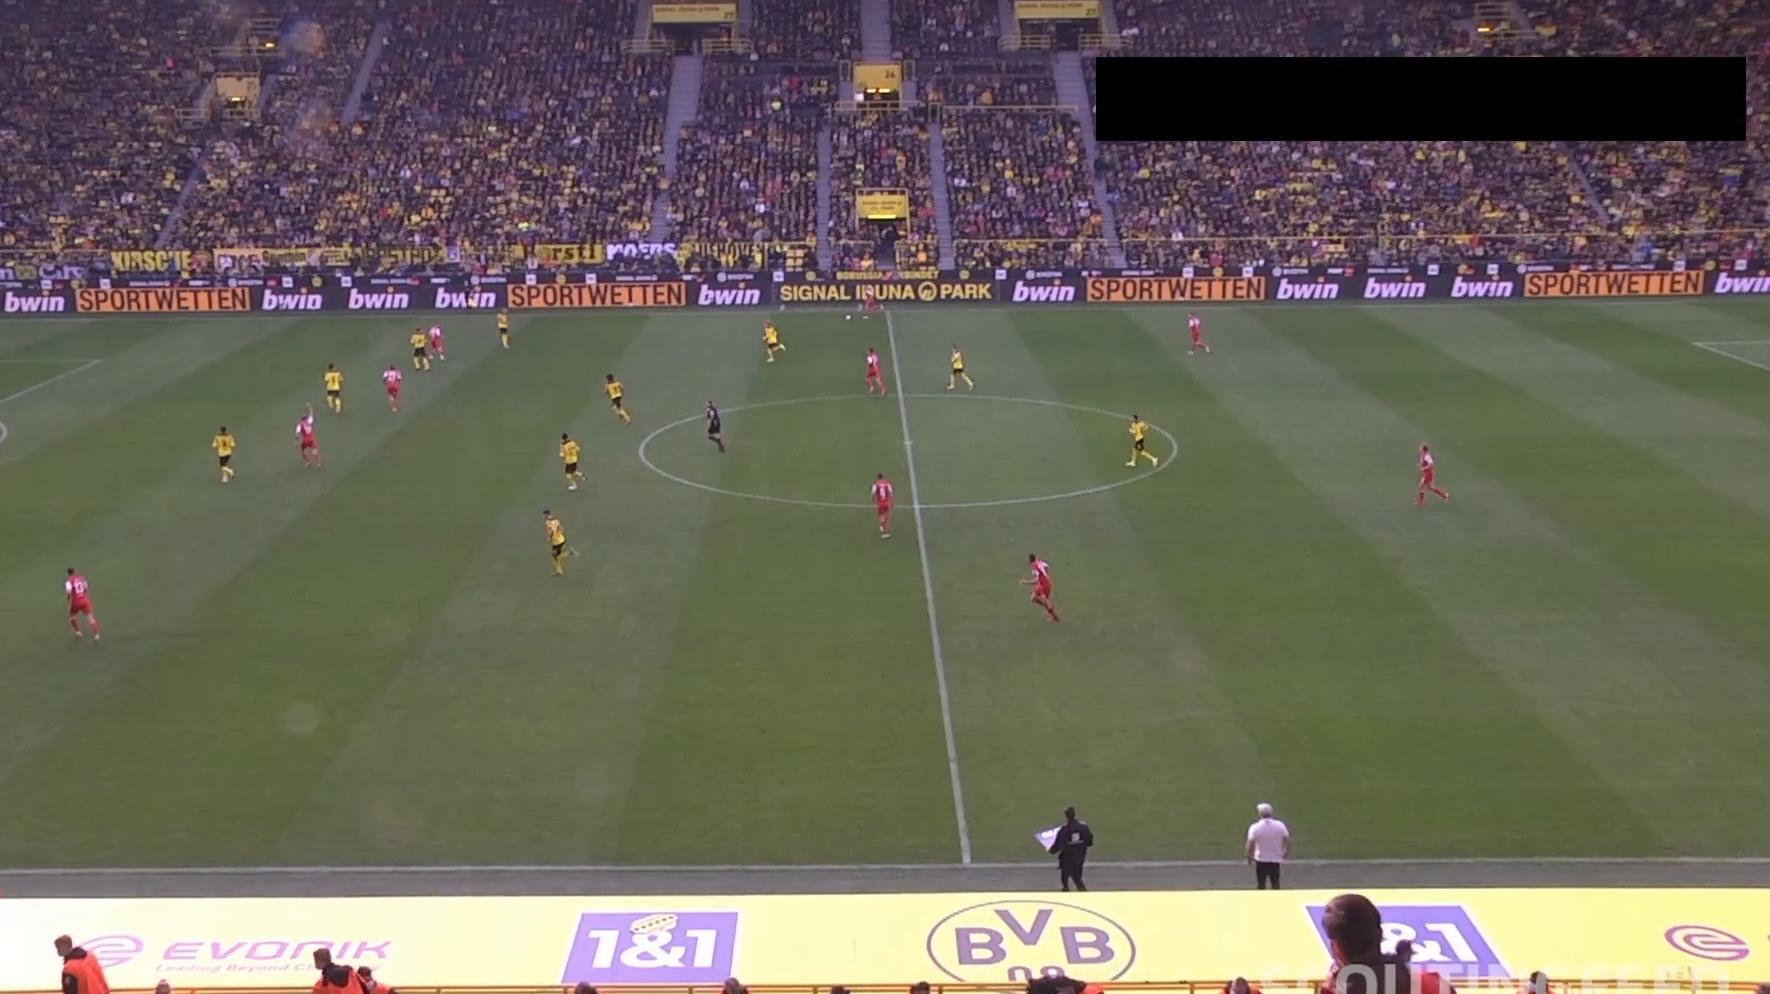ball: (844, 312, 852, 321)
